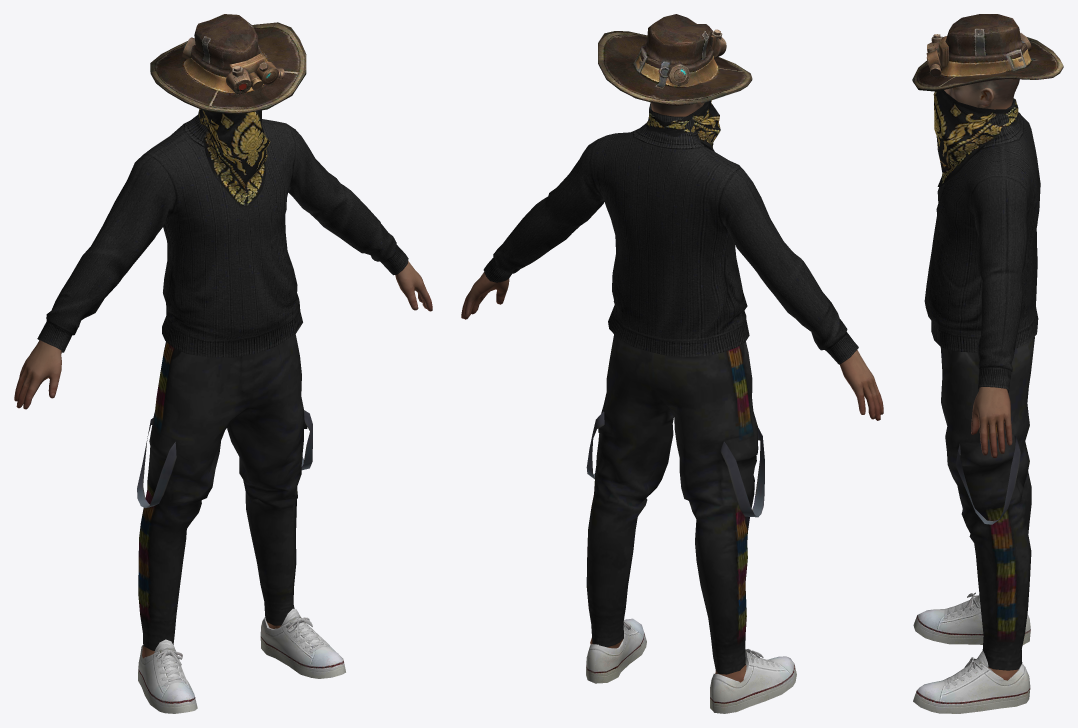
Rendered from maskfedora.fbx.
3 renders of one model, left to right at view 1: azimuth 30°, elevation 25°; view 2: azimuth 150°, elevation 25°; view 3: azimuth 270°, elevation 25°, orthographic.
Visible parts, largest first — view 1: Object_5, Object_4, Object_7, Object_3, Object_6, Object_2; view 2: Object_5, Object_4, Object_7, Object_3, Object_2, Object_6; view 3: Object_5, Object_4, Object_7, Object_3, Object_2, Object_6.
Boxes of the visible parts, x1,y1,x2,y2 form: Object_5: (37,109,408,357); Object_4: (137,334,312,650); Object_7: (150,14,306,114); Object_3: (138,608,345,713); Object_6: (198,109,270,212); Object_2: (14,261,432,658); Object_5: (483,108,858,364); Object_4: (586,334,764,674); Object_7: (598,14,752,105); Object_3: (586,618,796,713); Object_2: (461,102,883,682); Object_6: (646,100,720,151); Object_5: (924,98,1040,392); Object_4: (940,337,1034,670); Object_7: (912,14,1063,91); Object_3: (913,592,1030,713); Object_2: (944,79,1019,680); Object_6: (933,90,1018,186).
Bounding box in the file's own units: 567 × 857 × 180.
6 materials, 6 textured.
